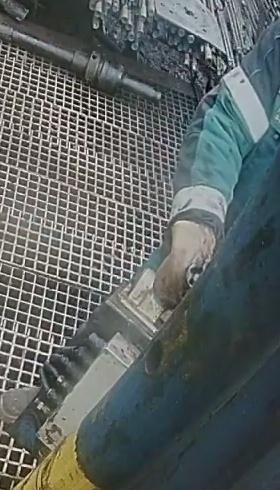gloves: (153, 202, 214, 308)
vest: (186, 10, 279, 211)
